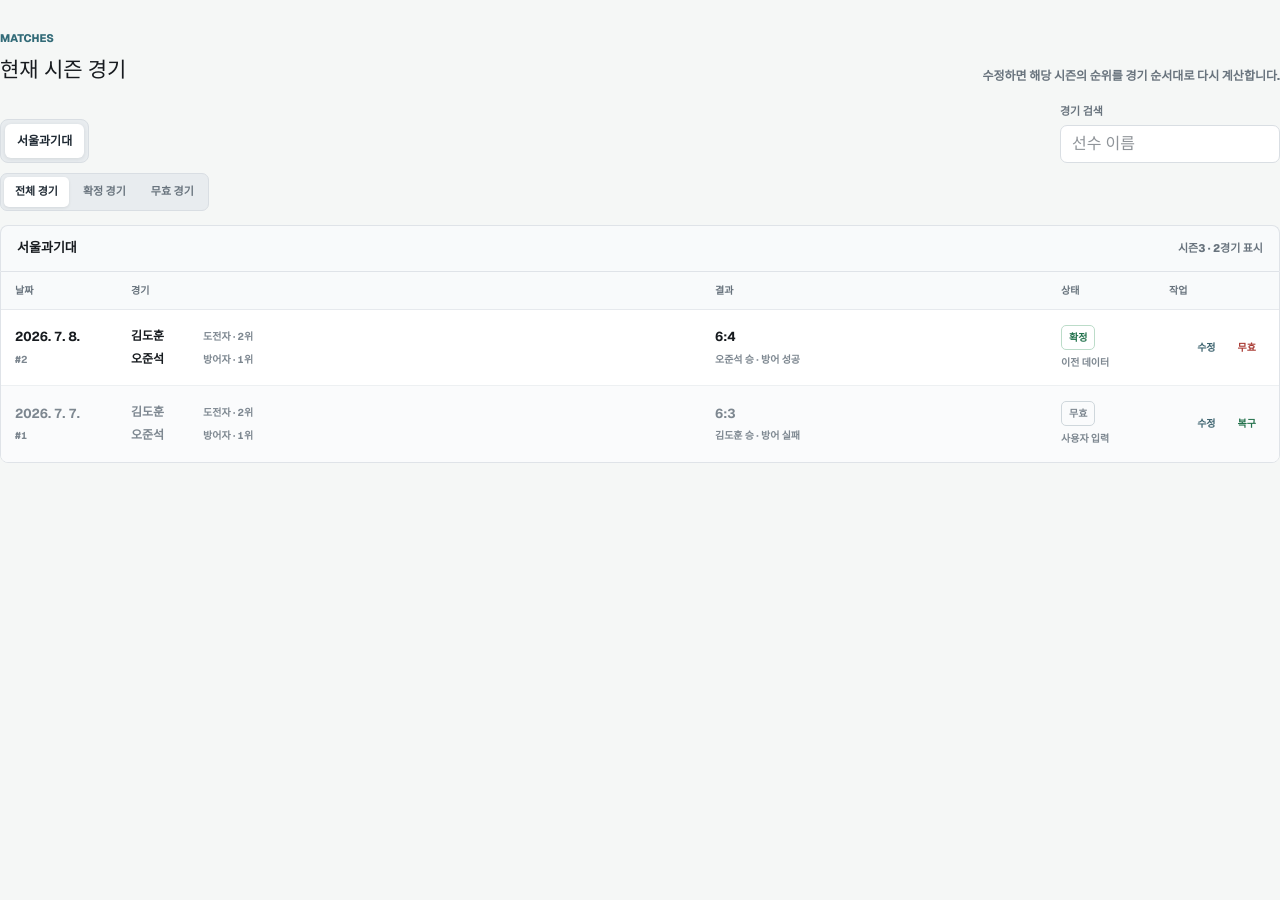
it: AdminMatchManager › keeps a failed mutation open and clears the secret
Click the button with aria-label "2026. 7. 8. 김도훈 대 오준석 경기 무효" at coordinates (1247, 347), box [1229,333,1265,361]
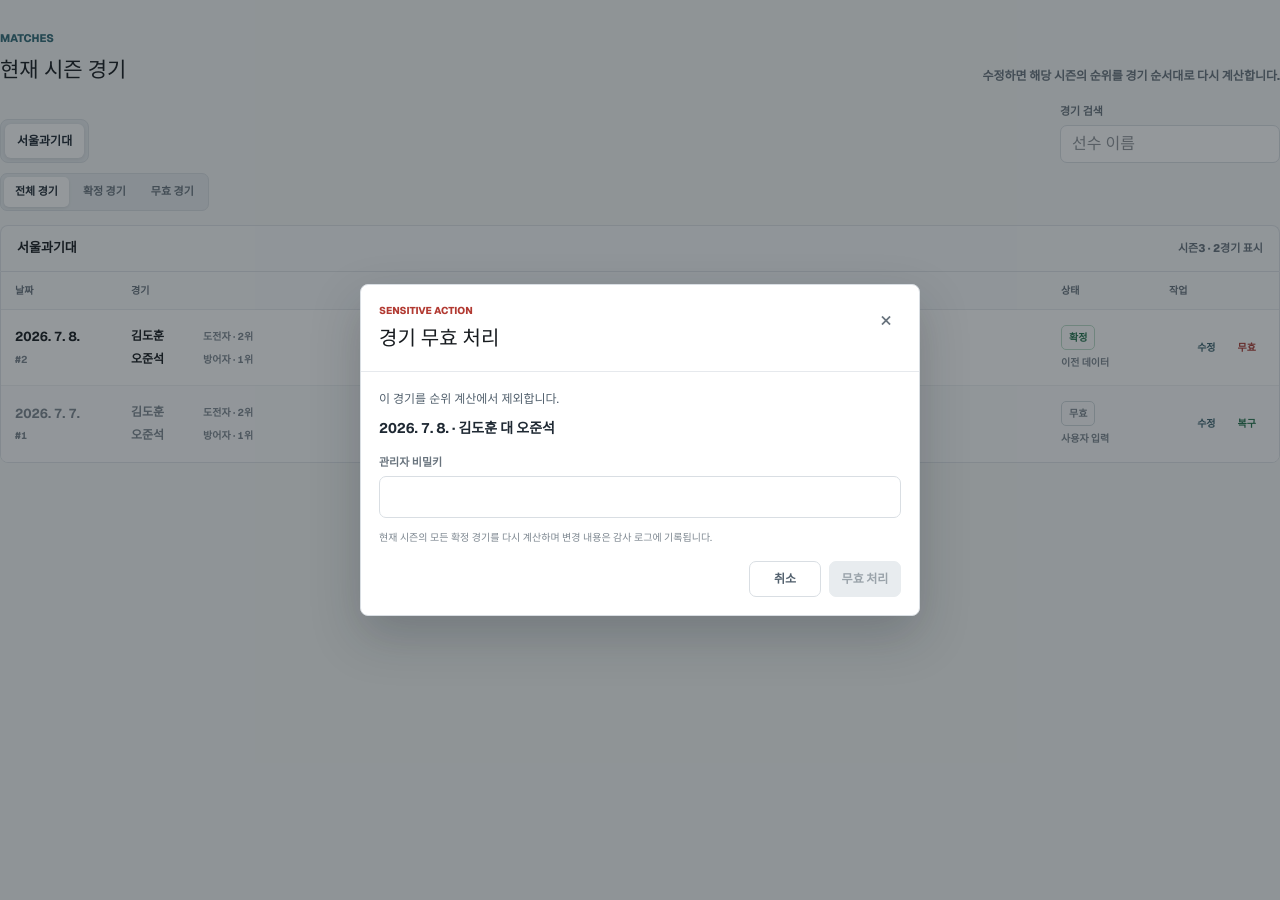
Type "wrong" into the password field labelled "관리자 비밀키" at coordinates (640, 497), box [379,476,901,518]
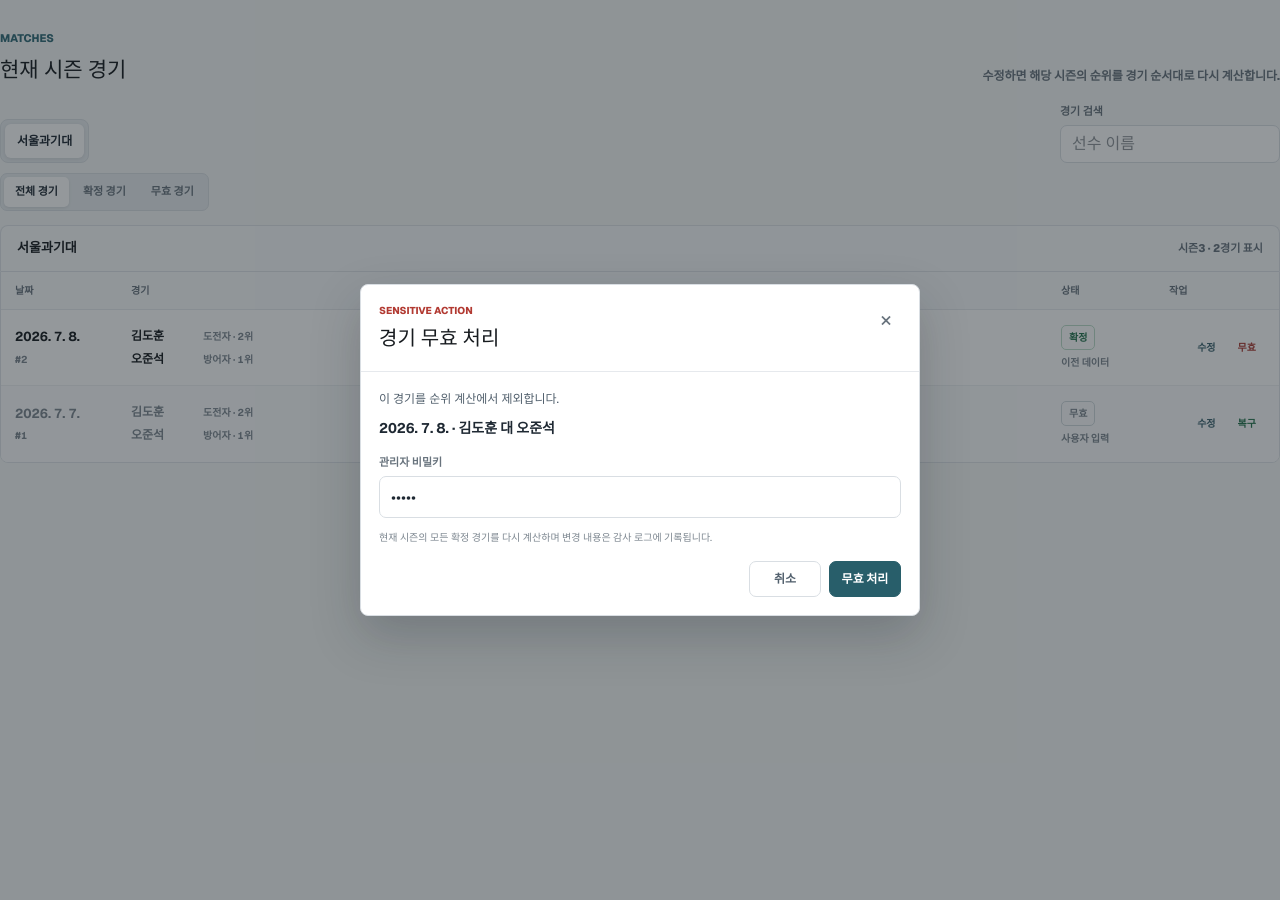
Click the button "무효 처리" at coordinates (865, 579), box [829,561,901,597]
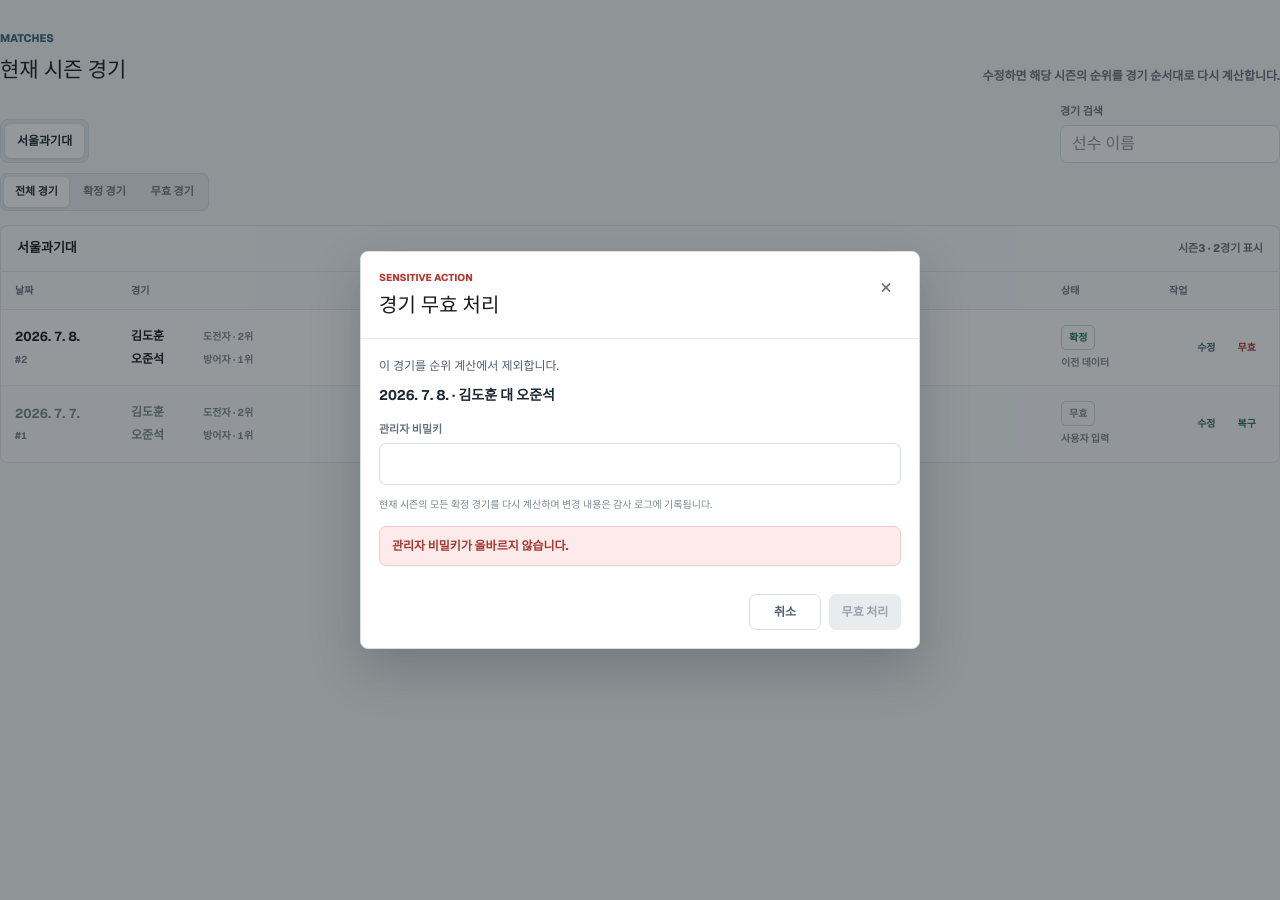
Expected: the text "관리자 비밀키가 올바르지 않습니다." is shown, [379,526,901,566]
Expected: the password field labelled "관리자 비밀키" is empty, [379,443,901,485]
